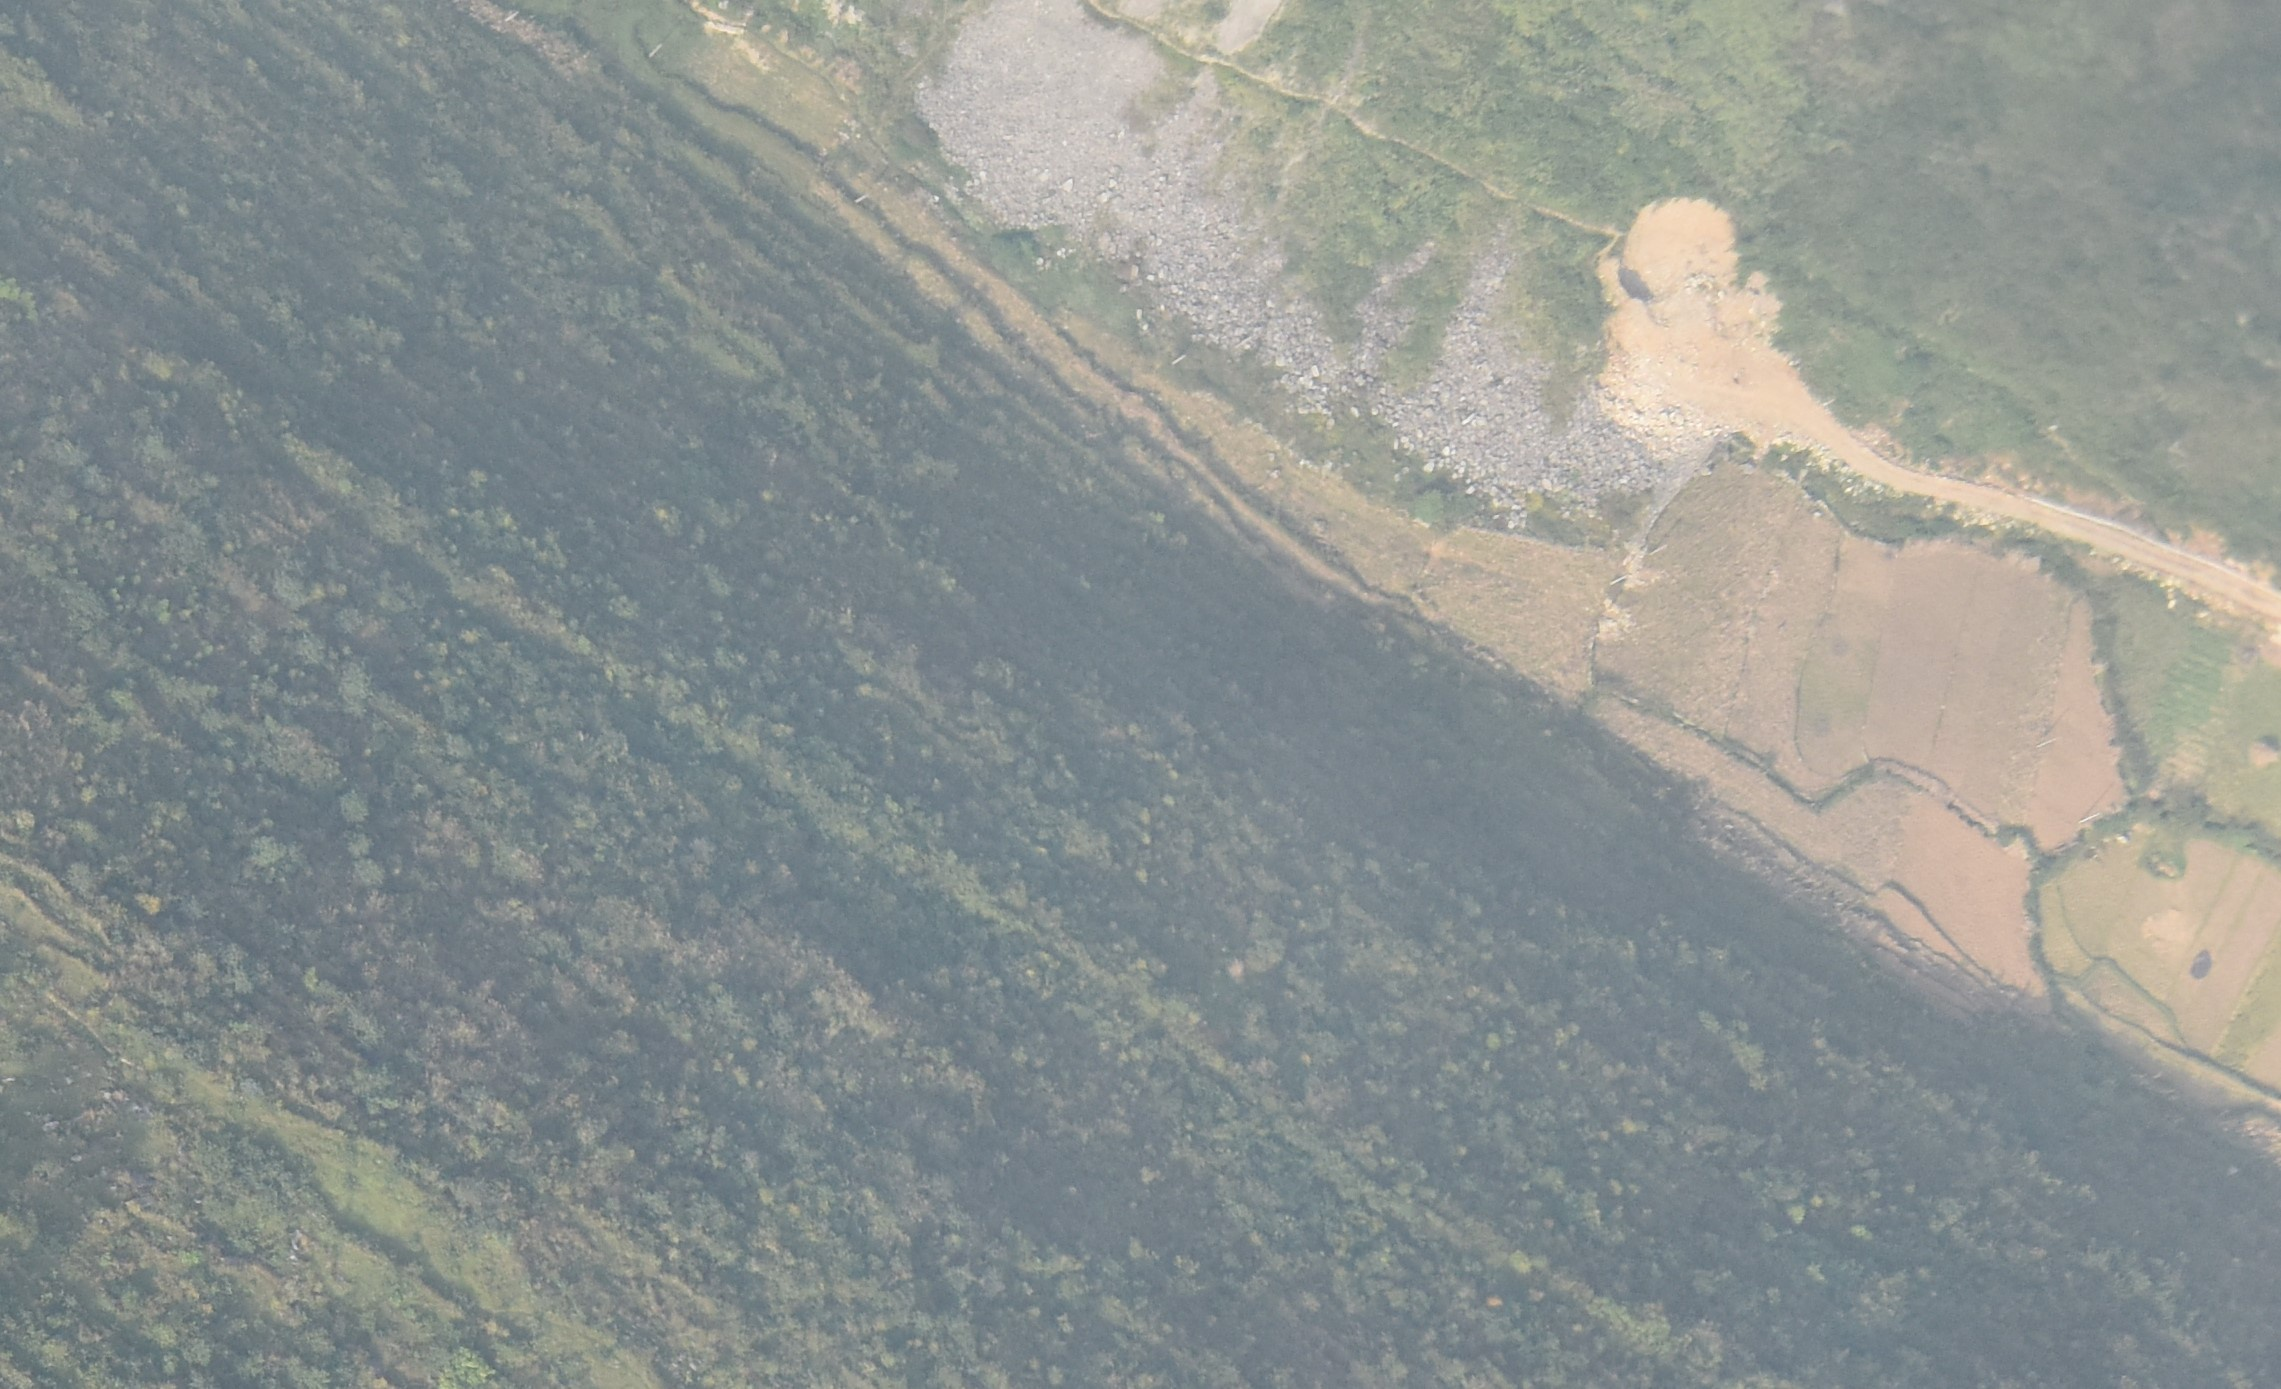quarry: (914, 2, 1712, 524)
